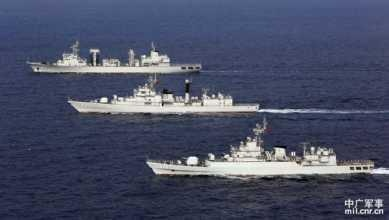warship: (145, 131, 376, 183), (68, 80, 265, 119), (30, 34, 208, 76)
